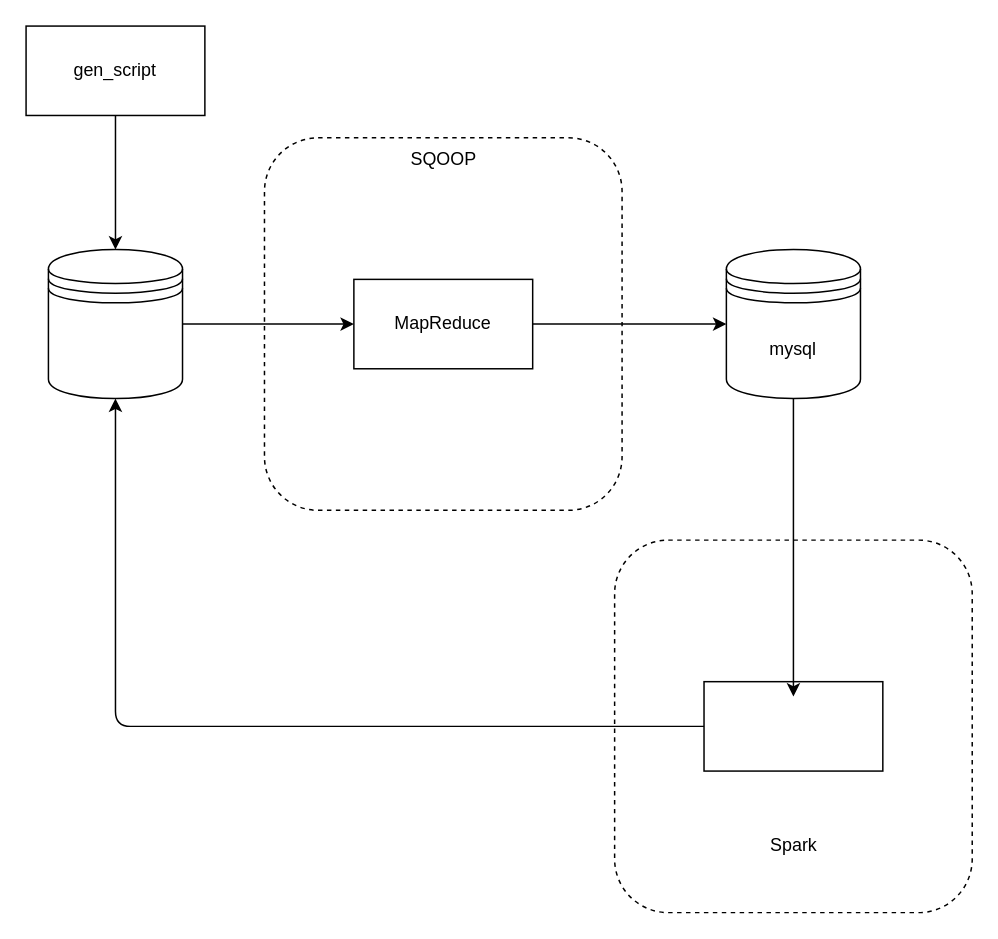
The diagram is 998 pixels wide and 939 high, and some of its shapes have lost their labels. Each missing label, with the centre of its shape:
hdfs: the point at 115,323
SparkApp.jar: the point at 793,725
